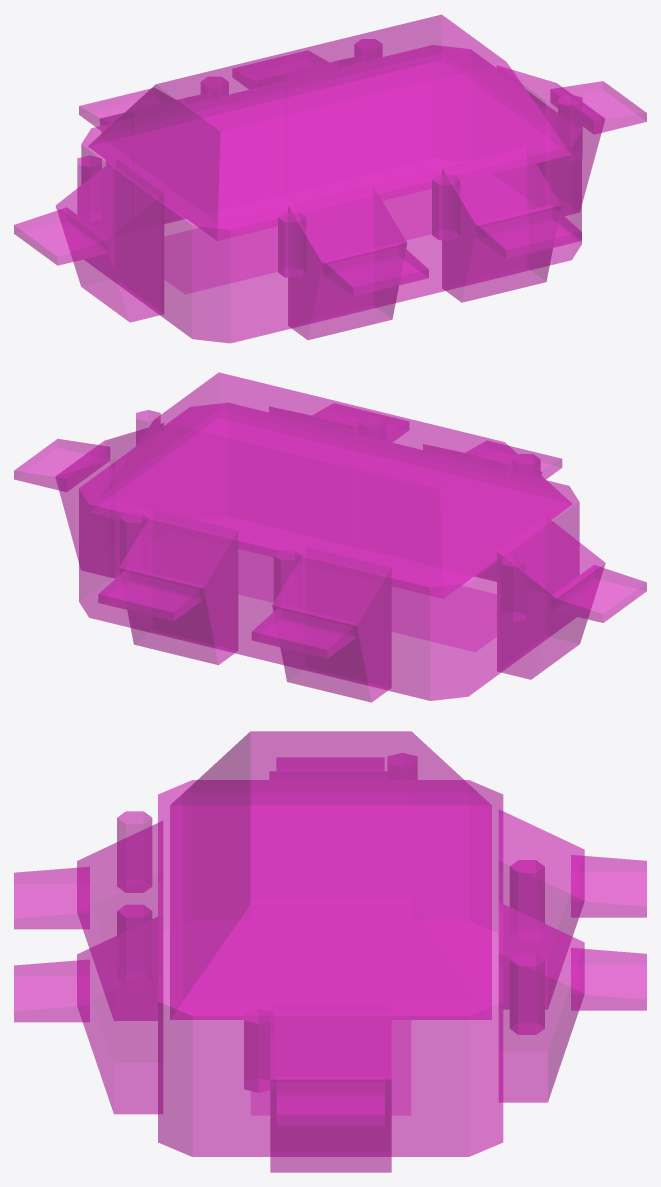
The model's file is SM_Prop_Horse_Game_01_Collision.fbx.
3 renders of one model, top to bottom at view 1: azimuth 30°, elevation 25°; view 2: azimuth 150°, elevation 25°; view 3: azimuth 270°, elevation 25°, orthographic. The views are drawn at different scales.
Parts seen in each view (by area): view 1: SM_Prop_Horse_Game_01_Collision; view 2: SM_Prop_Horse_Game_01_Collision; view 3: SM_Prop_Horse_Game_01_Collision.
Part boxes in pixels (box(x1,y1,x2,y2)): SM_Prop_Horse_Game_01_Collision: box(14, 14, 646, 343); SM_Prop_Horse_Game_01_Collision: box(14, 372, 646, 702); SM_Prop_Horse_Game_01_Collision: box(14, 731, 646, 1172).
Size of the model in its own units: 454 by 131 by 340.
